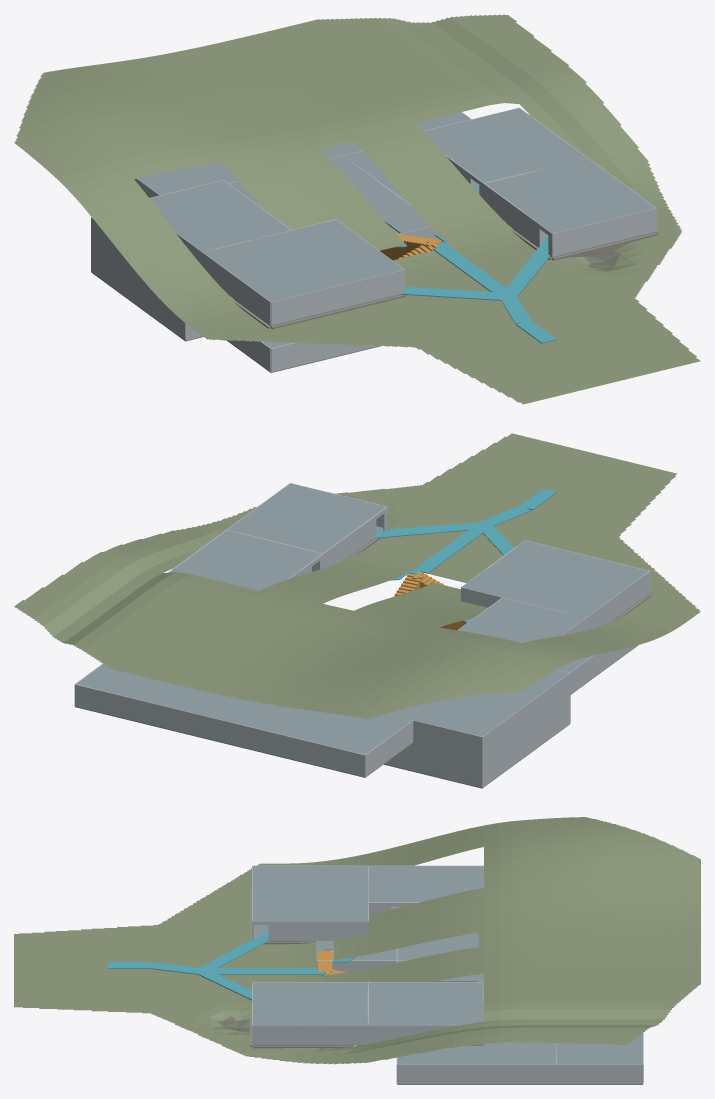
The model's file is supported-terrain.glb.
The picture shows the model from 3 angles, top to bottom: view 1: azimuth 30°, elevation 25°; view 2: azimuth 150°, elevation 25°; view 3: azimuth 270°, elevation 25°; orthographic projection. The views are drawn at different scales.
Visible parts, largest first — view 1: Saved editor macroterrain WLD-05, Ceiling cap shack, Ceiling cap assay, Ceiling cap wash, Ceiling cap stores, Wall shack S, Wall lower W, Wall assay S, Ceiling cap cross, Wall vent S, Wall shack W, Ceiling cap haul.004 (+8 smaller); view 2: Saved editor macroterrain WLD-05, Ceiling cap shack, Ceiling cap cross, Ceiling cap assay, Ceiling cap wash, Wall cross N, Ceiling cap ore-west, Ceiling cap stores, Wall lower W, Wall lower N, Wall ore-west W, Ceiling cap lift (+8 smaller); view 3: Saved editor macroterrain WLD-05, Ceiling cap shack, Ceiling cap assay, Ceiling cap wash, Ceiling cap stores, Wall ore-east E, Ceiling cap ore-east, Wall assay E, Ceiling cap lift, Wall shack E, Wall lift E, Ceiling cap ore-west (+5 smaller).
Part boxes in pixels (x1=…): Saved editor macroterrain WLD-05: x1=14, y1=14, x2=700, y2=404; Ceiling cap shack: x1=203, y1=220, x2=403, y2=301; Ceiling cap assay: x1=485, y1=158, x2=655, y2=233; Ceiling cap wash: x1=424, y1=108, x2=586, y2=182; Ceiling cap stores: x1=150, y1=180, x2=290, y2=251; Wall shack S: x1=271, y1=269, x2=404, y2=325; Wall lower W: x1=91, y1=241, x2=185, y2=340; Wall assay S: x1=552, y1=208, x2=656, y2=256; Ceiling cap cross: x1=137, y1=142, x2=362, y2=195; Wall vent S: x1=271, y1=342, x2=376, y2=371; Wall shack W: x1=202, y1=252, x2=270, y2=325; Ceiling cap haul.004: x1=363, y1=190, x2=429, y2=233; Saved editor macroterrain WLD-05: x1=14, y1=433, x2=700, y2=718; Ceiling cap shack: x1=462, y1=540, x2=648, y2=617; Ceiling cap cross: x1=144, y1=683, x2=412, y2=754; Ceiling cap assay: x1=227, y1=483, x2=386, y2=553; Ceiling cap wash: x1=169, y1=530, x2=321, y2=590; Wall cross N: x1=144, y1=701, x2=365, y2=776; Ceiling cap ore-west: x1=388, y1=669, x2=569, y2=736; Ceiling cap stores: x1=458, y1=598, x2=585, y2=643; Wall lower W: x1=482, y1=694, x2=570, y2=787; Wall lower N: x1=385, y1=742, x2=482, y2=787; Wall ore-west W: x1=482, y1=673, x2=570, y2=758; Ceiling cap lift: x1=76, y1=663, x2=168, y2=700; Saved editor macroterrain WLD-05: x1=14, y1=817, x2=700, y2=1064; Ceiling cap shack: x1=252, y1=866, x2=368, y2=920; Ceiling cap assay: x1=252, y1=982, x2=368, y2=1024; Ceiling cap wash: x1=368, y1=982, x2=483, y2=1024; Ceiling cap stores: x1=368, y1=866, x2=483, y2=902; Wall ore-east E: x1=397, y1=1064, x2=556, y2=1084; Ceiling cap ore-east: x1=397, y1=1042, x2=556, y2=1064; Wall assay E: x1=252, y1=1024, x2=368, y2=1044; Ceiling cap lift: x1=556, y1=1033, x2=642, y2=1064; Wall shack E: x1=268, y1=921, x2=368, y2=940; Wall lift E: x1=556, y1=1064, x2=642, y2=1084; Ceiling cap ore-west: x1=397, y1=933, x2=478, y2=959.
Size of the model in its own units: 70 by 17.77 by 95.
